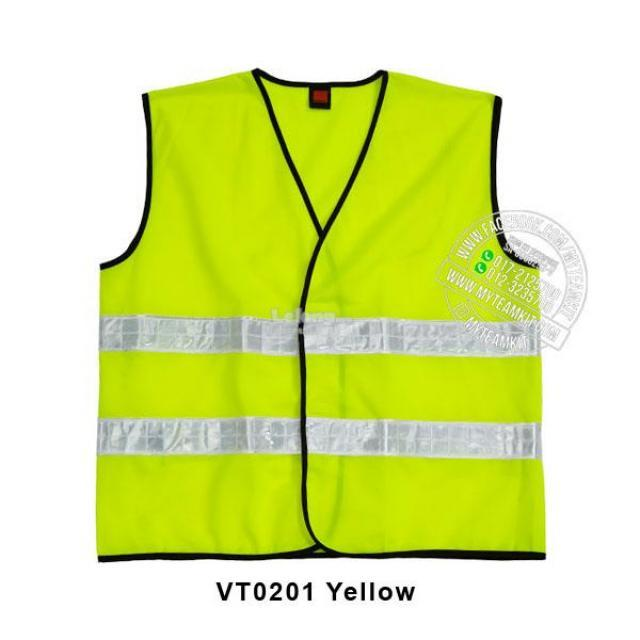reflective_jacket: (58, 60, 566, 563)
